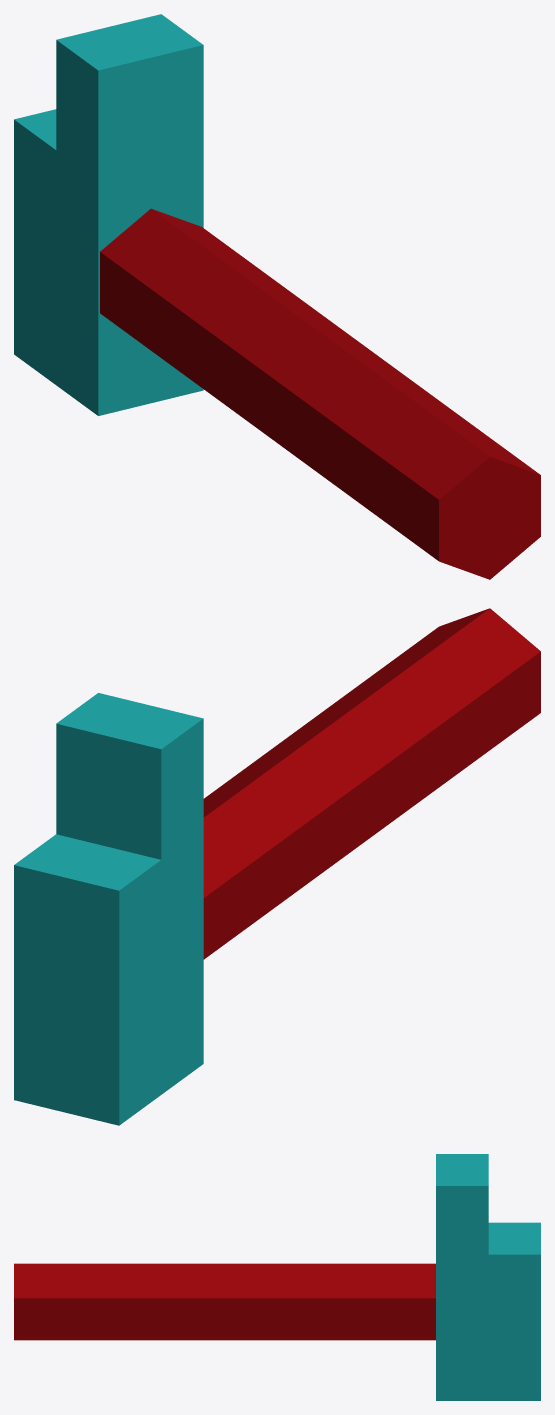
Rendered from redpawnhammer.0.5.6.obj.
3 renders of one model, top to bottom at view 1: azimuth 30°, elevation 25°; view 2: azimuth 150°, elevation 25°; view 3: azimuth 270°, elevation 25°, orthographic. The views are drawn at different scales.
Parts seen in each view (by area): view 1: hammer_Cylinder; view 2: hammer_Cylinder; view 3: hammer_Cylinder.
Boxes of the visible parts, left/top/right/bottom form: hammer_Cylinder: left=14, top=14, right=540, bottom=579; hammer_Cylinder: left=14, top=608, right=540, bottom=1125; hammer_Cylinder: left=14, top=1154, right=540, bottom=1400.
Size of the model in its own units: 0.0898 by 0.2818 by 0.6259.
